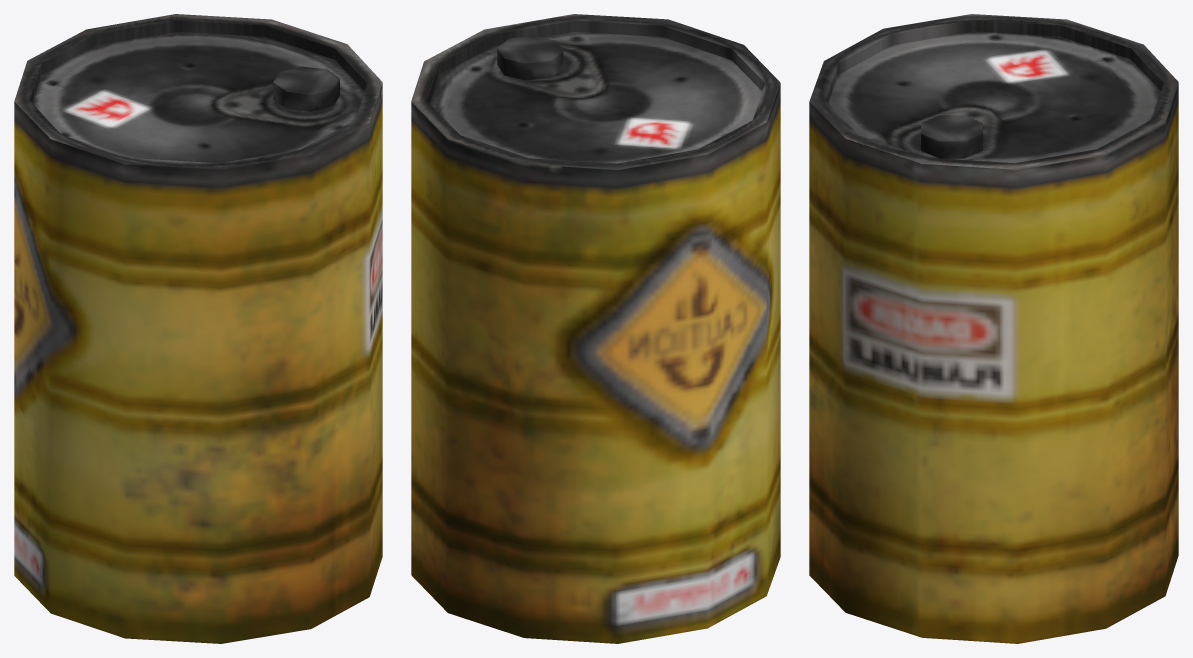
Rendered from barrel.obj.
3 views of the same model, side by side, from view 1: azimuth 30°, elevation 25°; view 2: azimuth 150°, elevation 25°; view 3: azimuth 270°, elevation 25° (orthographic).
Parts seen in each view (by area): view 1: Group; view 2: Group; view 3: Group.
Boxes of the visible parts, box(x1,y1,x2,y2) form: Group: box(14, 14, 382, 643); Group: box(411, 14, 780, 643); Group: box(809, 14, 1178, 643).
Size of the model in its own units: 12.62 by 18.09 by 12.62.
1 material, 1 textured.
